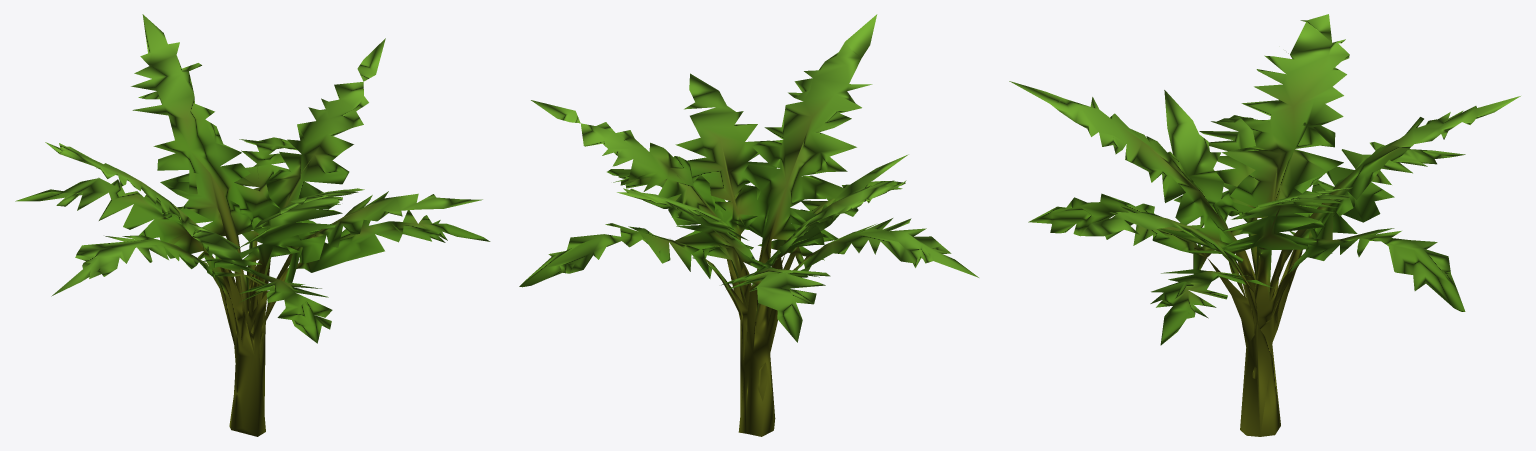
Rendered from gen3d-fern-lod1.glb.
3 views of the same model, side by side, from view 1: azimuth 30°, elevation 25°; view 2: azimuth 150°, elevation 25°; view 3: azimuth 270°, elevation 25° (orthographic). The views are drawn at different scales.
Parts seen in each view (by area): view 1: part_0; view 2: part_0; view 3: part_0.
Part boxes in pixels (box(x1,y1,x2,y2)): part_0: box(15, 14, 490, 436); part_0: box(519, 14, 978, 436); part_0: box(1009, 14, 1520, 436).
Bounding box in the file's own units: 1.29 × 0.9973 × 1.33.
